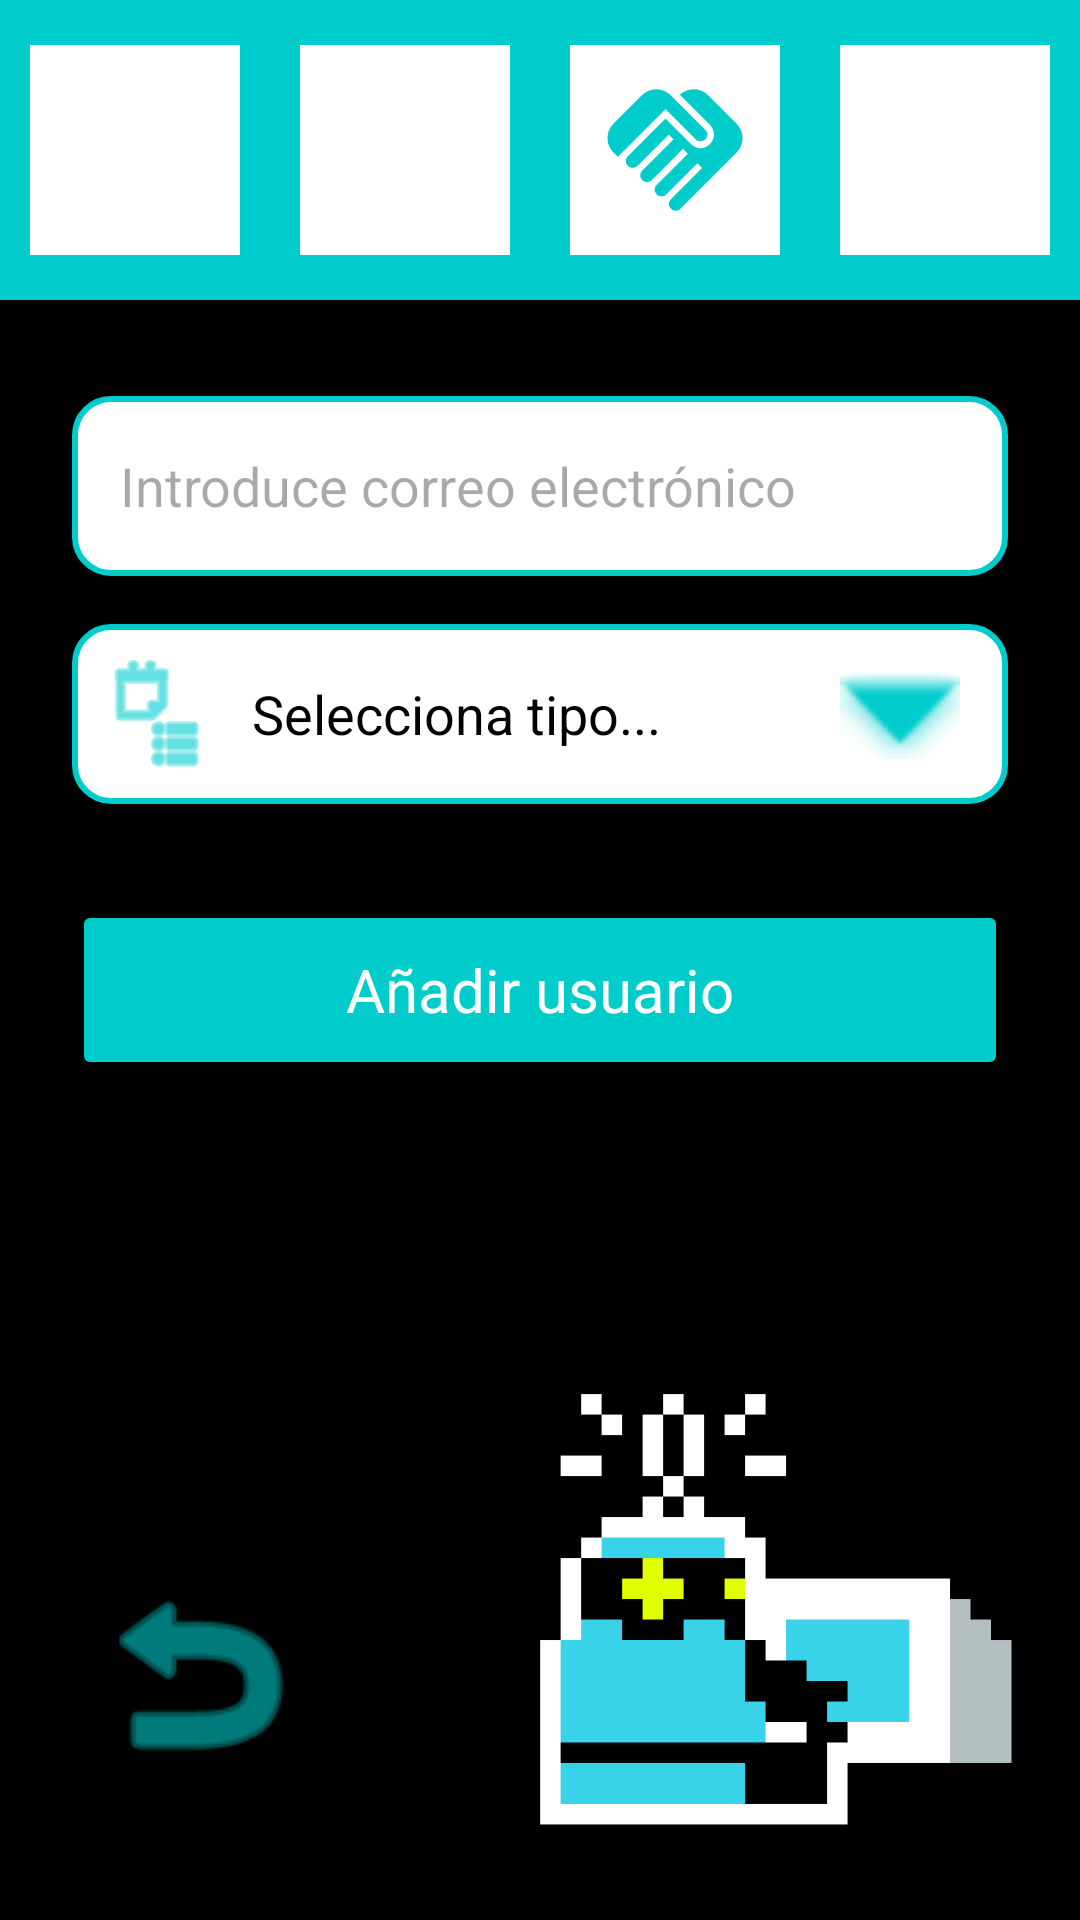

Point at icon controls on the screen. Image size 1080 × 1920, points as (x=x, y=y).
agenda: (x=156, y=713)
arrow down float: (x=900, y=715)
Atrás: (x=201, y=1675)
handshake: (x=675, y=150)
